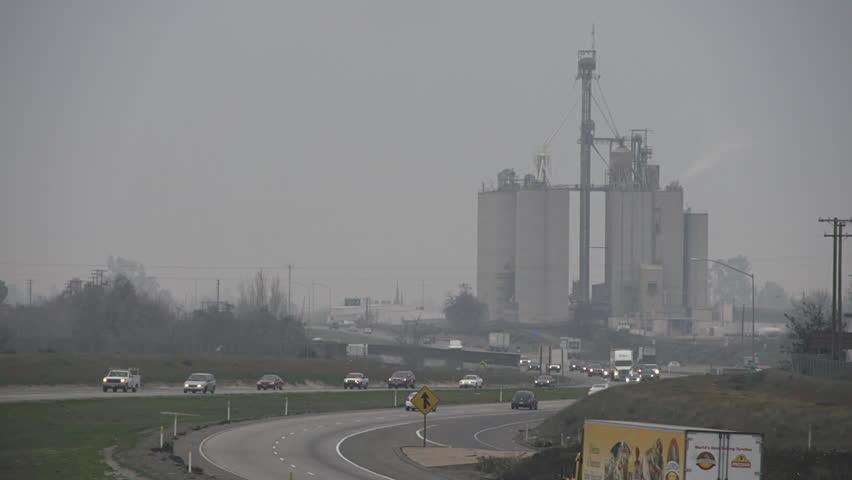bus: (567, 417, 765, 480), (610, 349, 635, 380), (487, 332, 511, 356)
car: (102, 369, 137, 393), (183, 372, 217, 394), (406, 392, 437, 412), (388, 370, 417, 391), (510, 390, 539, 410), (255, 374, 285, 391), (343, 372, 369, 390), (638, 362, 660, 380), (459, 374, 483, 390), (587, 383, 610, 398), (533, 375, 557, 389), (587, 362, 604, 377), (625, 371, 643, 385), (545, 360, 562, 373), (447, 340, 463, 351), (527, 360, 543, 370)
